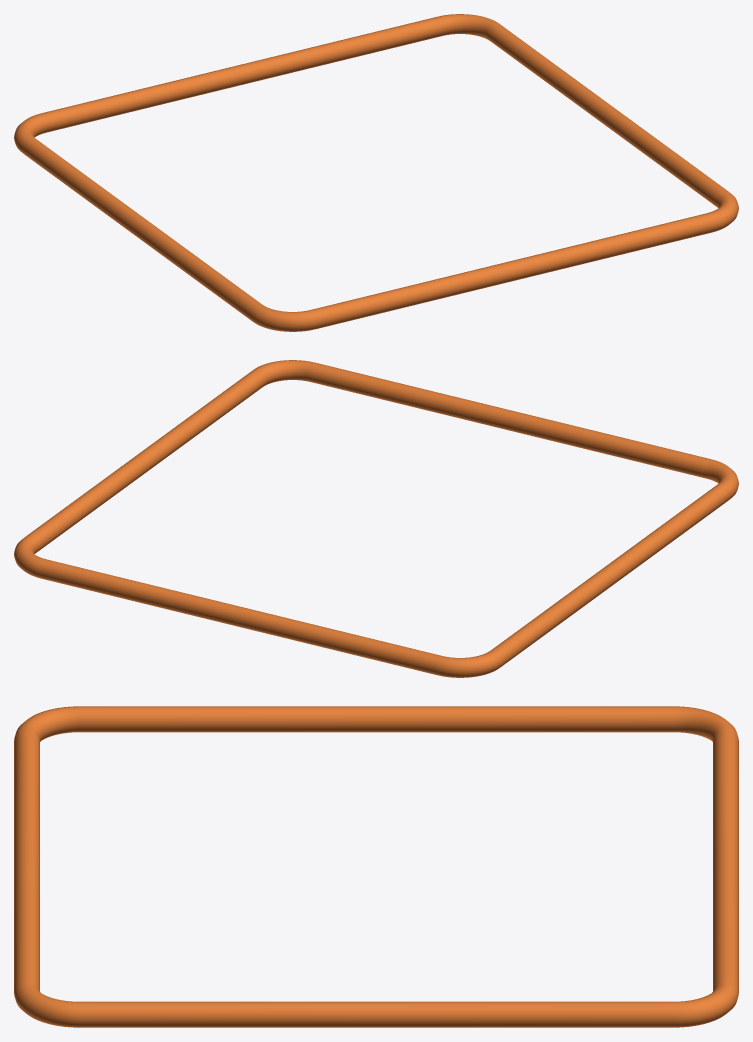
The model's file is Masu.fbx.
3 views of the same model, one above another, from view 1: azimuth 30°, elevation 25°; view 2: azimuth 150°, elevation 25°; view 3: azimuth 270°, elevation 25° (orthographic). The views are drawn at different scales.
Visible parts, largest first — view 1: Torus; view 2: Torus; view 3: Torus.
Boxes of the visible parts, x1,y1,x2,y2 form: Torus: [14, 14, 738, 331]; Torus: [14, 360, 738, 677]; Torus: [14, 706, 738, 1027].
Bounding box in the file's own units: 487 × 17.5 × 487.
